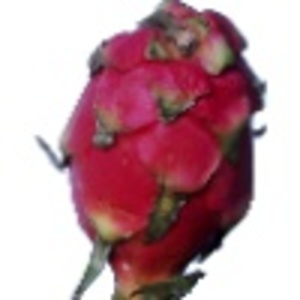pitaia: (36, 1, 272, 300)
